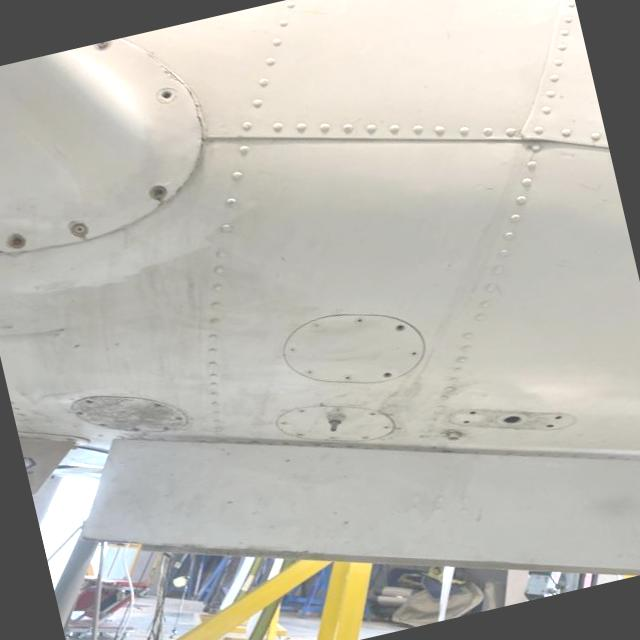Missing Fastener: (147, 180, 169, 202), (155, 82, 179, 102), (5, 230, 27, 250), (459, 417, 472, 425), (395, 322, 406, 331), (544, 421, 556, 429), (383, 369, 394, 377), (554, 412, 564, 419), (468, 408, 479, 414)
